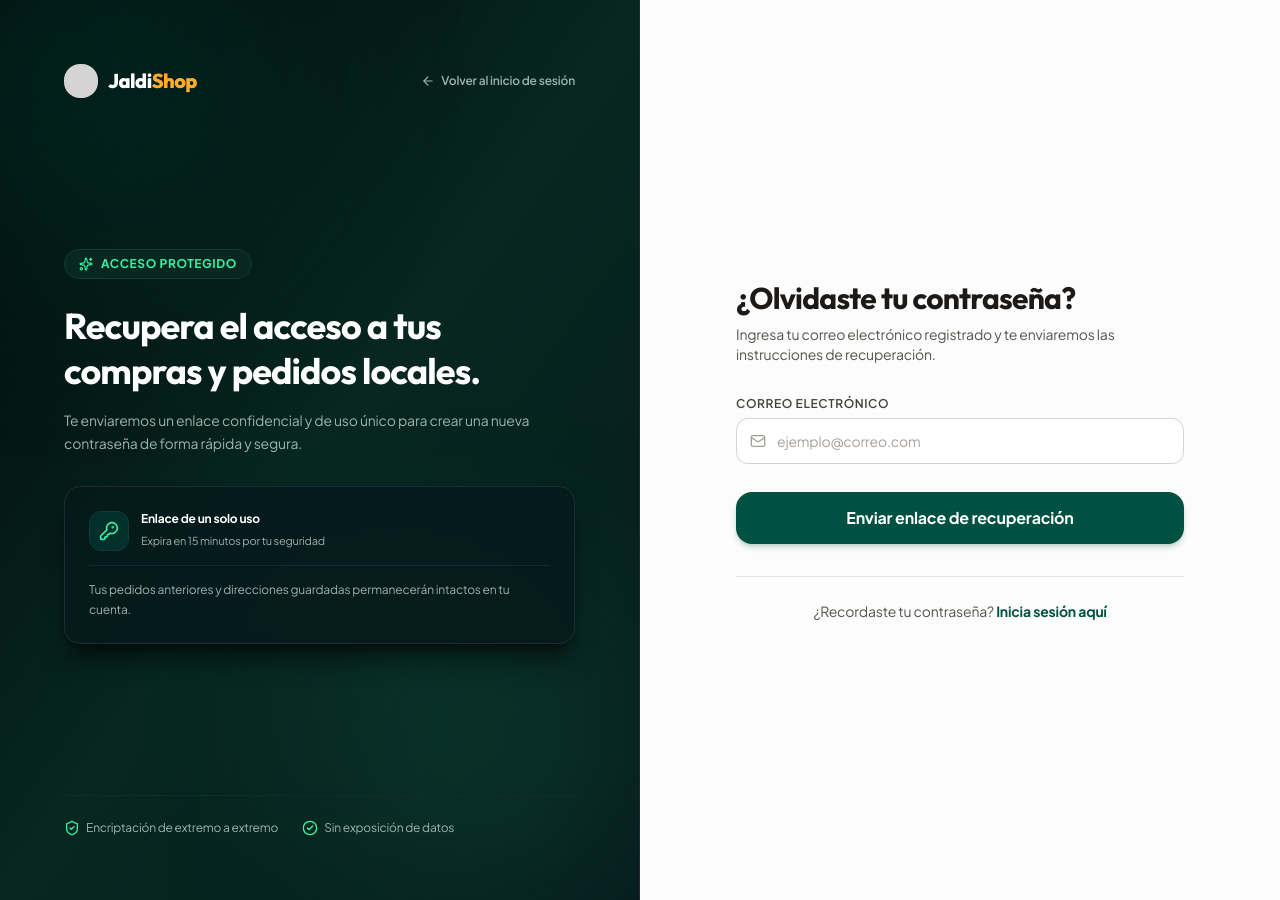
Scenario: ForgotPasswordForm Component › displays error message when request fails due to network or rate limit
The width and height of the screenshot is (1280, 900).
In the field labelled "Correo electrónico": (960, 440) [736,418,1184,464], type "cliente@ejemplo.pe"
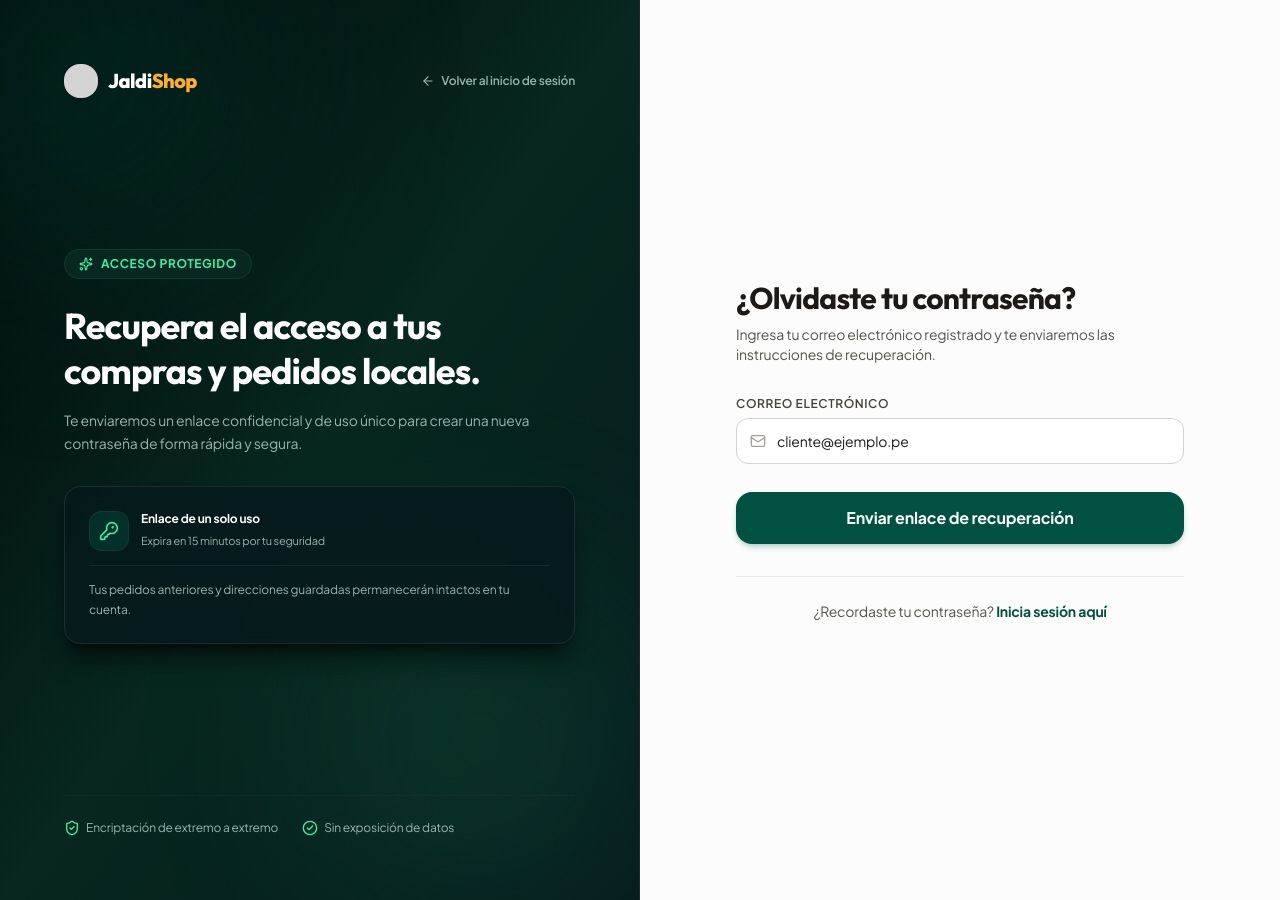
Click the button "Enviar enlace de recuperación": (960, 518) [736,492,1184,544]
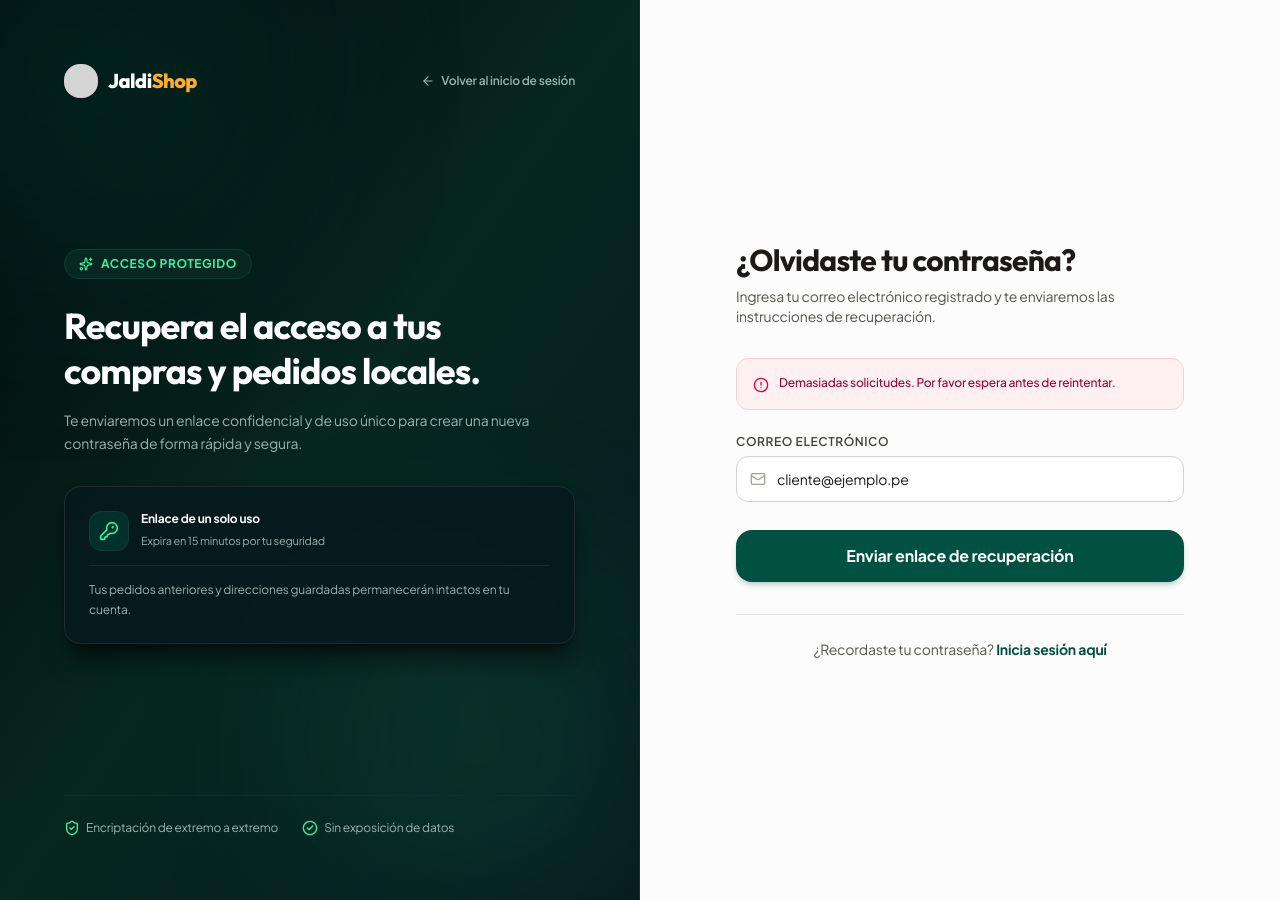
Check: the text "Demasiadas solicitudes. Por favor espera antes de reintentar." is shown, box [779,374,1167,390]
